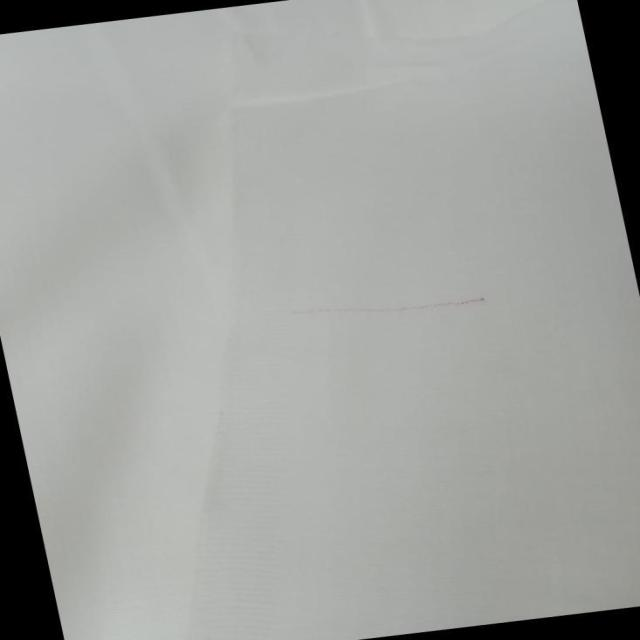contamination: (277, 279, 503, 339)
